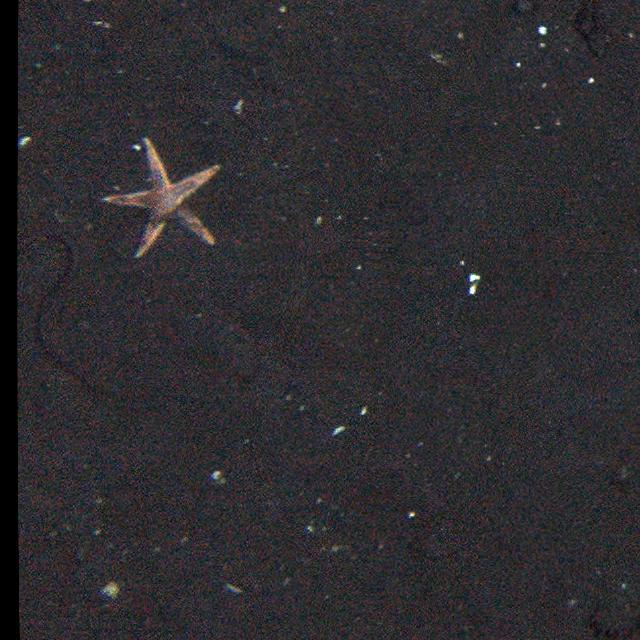eel: (22, 229, 107, 395)
